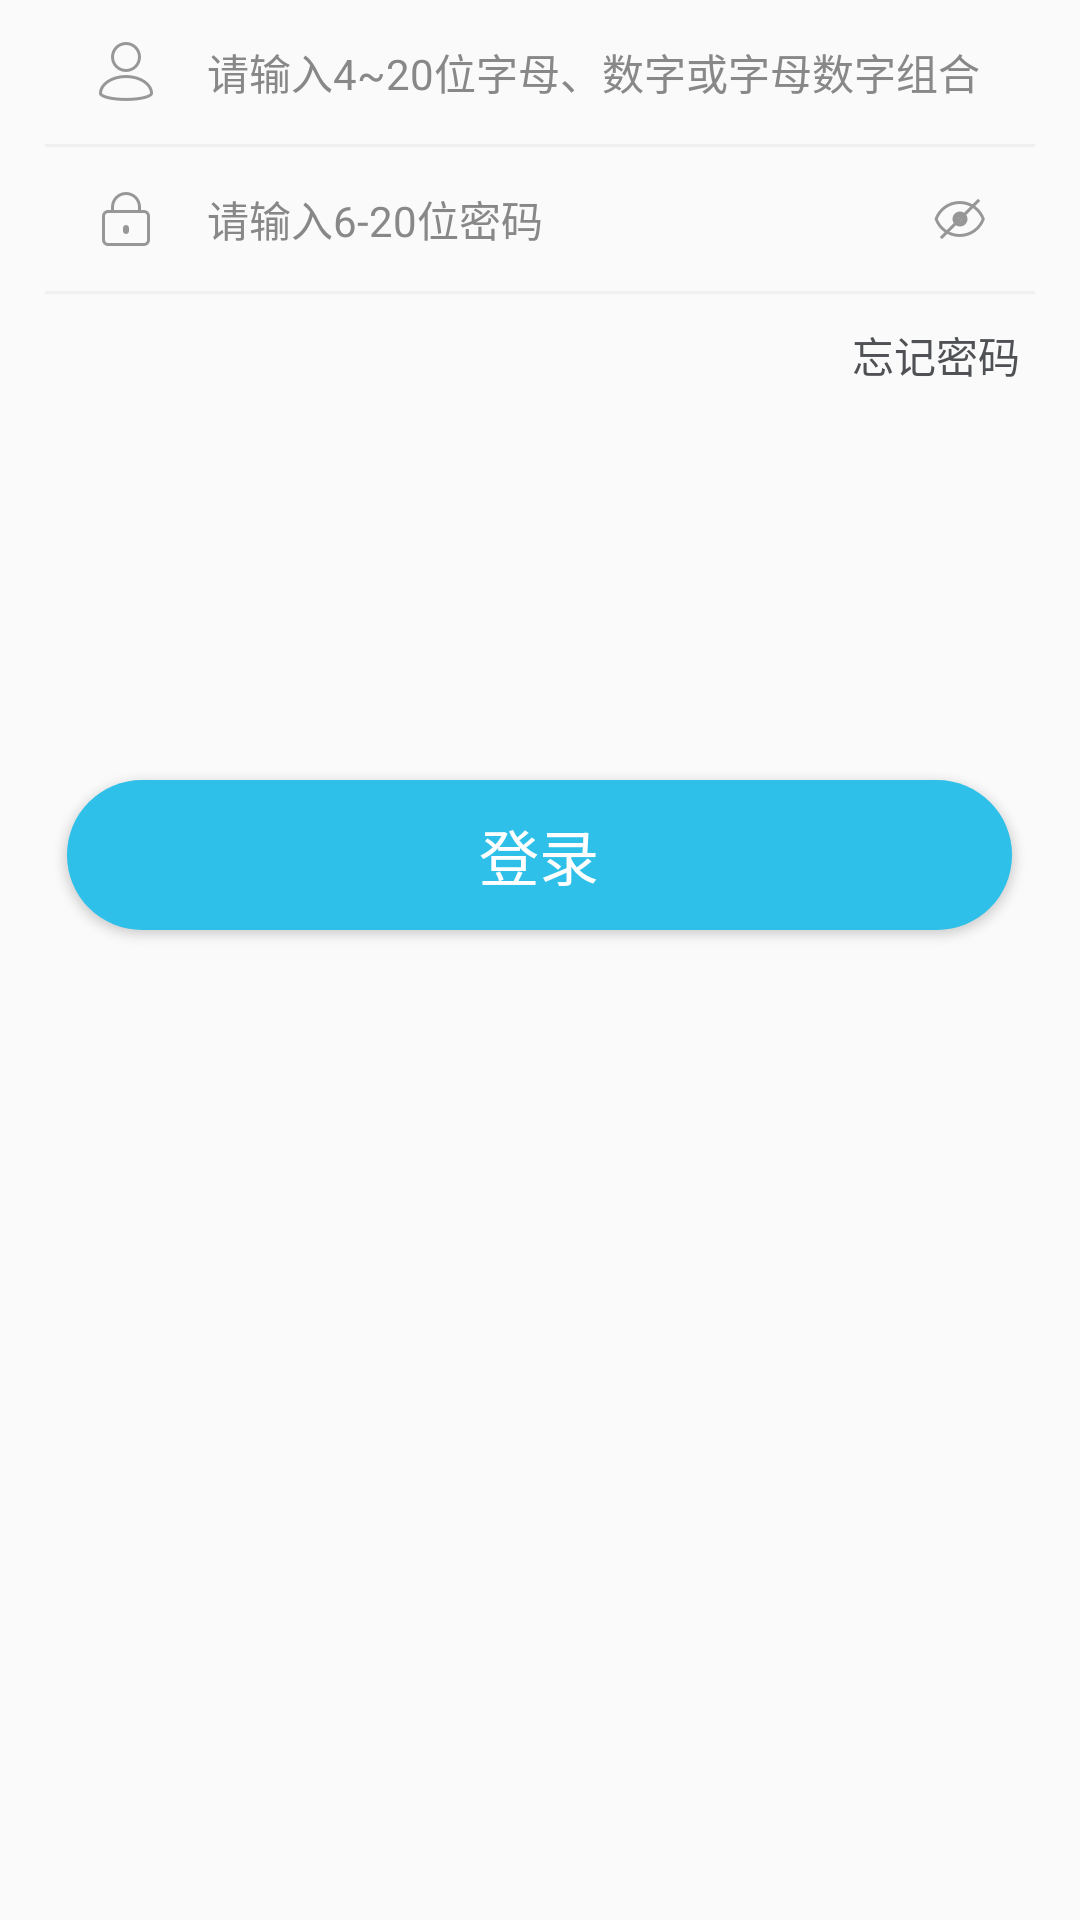

Locate icon controls on the screen. Image size 1080w x 1920h, boxes as {"x1": x1, "y1": y1, "x2": x2, "y2": y2}.
lock: {"x1": 102, "y1": 192, "x2": 150, "y2": 246}
